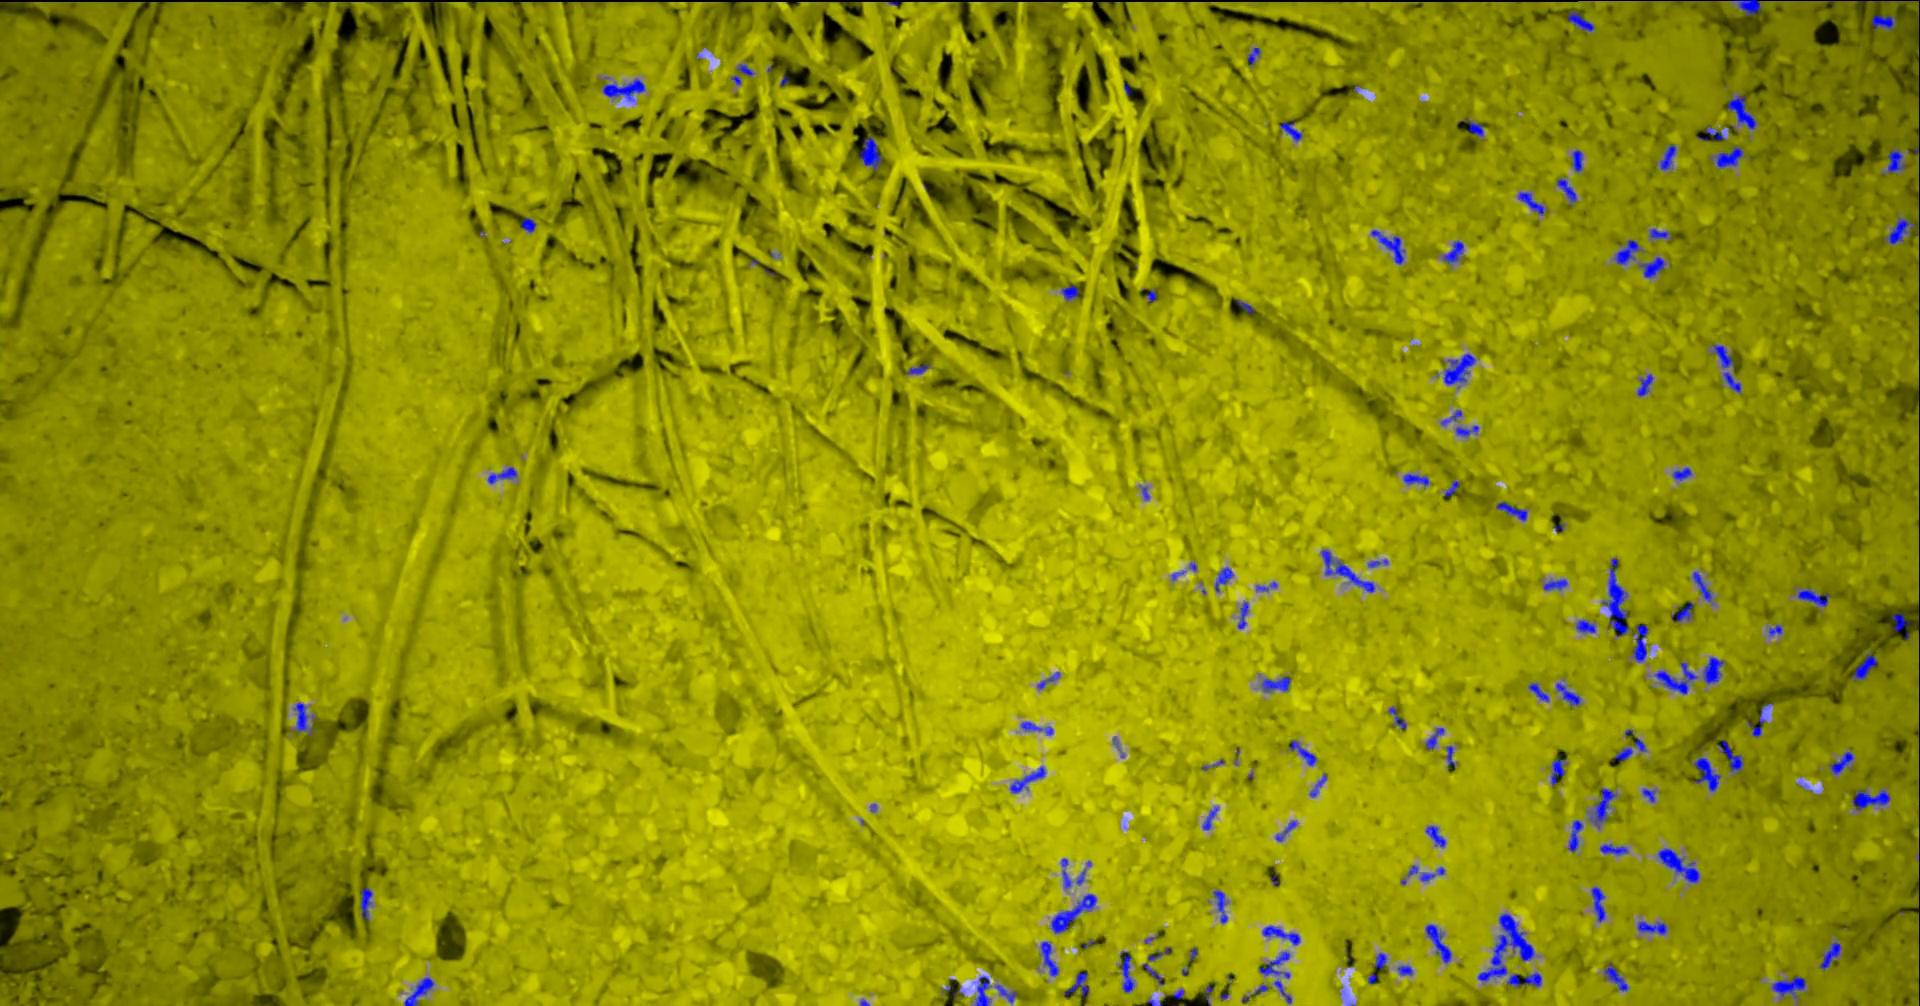ant: (1321, 549, 1374, 592), (1603, 558, 1628, 636), (1050, 893, 1096, 934), (1710, 344, 1740, 392), (1657, 848, 1699, 882), (1655, 662, 1697, 694), (1370, 229, 1404, 264), (1589, 788, 1617, 828), (1425, 923, 1451, 963), (1726, 95, 1756, 130), (602, 77, 645, 102), (1443, 353, 1476, 384), (1884, 216, 1919, 244), (1010, 766, 1045, 793), (1693, 757, 1719, 791), (404, 977, 434, 1005), (1718, 739, 1743, 772), (858, 135, 881, 170), (1258, 951, 1289, 978), (1747, 702, 1771, 735), (1710, 145, 1743, 168), (1060, 857, 1084, 888), (1851, 790, 1890, 809), (1771, 976, 1804, 997), (1288, 739, 1316, 765), (1604, 962, 1628, 991), (1262, 925, 1299, 944), (293, 702, 315, 734), (1614, 239, 1641, 264), (1850, 653, 1876, 680), (1496, 500, 1528, 521), (1797, 587, 1829, 607), (1632, 622, 1648, 661), (1117, 951, 1133, 992), (1063, 970, 1088, 995), (1040, 941, 1058, 976), (1702, 655, 1723, 683), (1818, 941, 1840, 969), (1556, 682, 1580, 706), (1517, 191, 1543, 213), (1829, 751, 1854, 774), (1556, 177, 1576, 205), (1691, 572, 1710, 601), (1567, 10, 1594, 30), (1590, 887, 1605, 922), (1638, 257, 1663, 277), (1260, 674, 1290, 691), (1211, 890, 1227, 923), (1142, 963, 1164, 984), (730, 64, 754, 84), (974, 976, 990, 1005), (1279, 121, 1302, 141), (1443, 240, 1463, 263), (994, 984, 1017, 1005), (1697, 124, 1724, 141), (488, 466, 516, 483), (1886, 149, 1905, 173), (1214, 567, 1233, 591), (1272, 981, 1291, 1005), (1658, 144, 1676, 169), (1020, 721, 1051, 735), (1568, 819, 1582, 851), (1425, 727, 1444, 749), (1459, 118, 1483, 136), (1733, 0, 1761, 15), (359, 887, 372, 920), (1671, 601, 1691, 621), (1275, 821, 1295, 841), (1425, 826, 1445, 846), (1870, 14, 1895, 30), (1528, 682, 1548, 701), (1037, 671, 1059, 688), (1637, 373, 1653, 396), (1388, 706, 1404, 729), (1309, 774, 1326, 796), (1550, 758, 1564, 785), (1637, 921, 1666, 934), (1420, 866, 1444, 882), (1440, 409, 1462, 426), (1402, 473, 1429, 485), (1891, 612, 1909, 631), (1203, 807, 1217, 829), (1599, 843, 1627, 855), (1237, 601, 1248, 627), (1147, 948, 1170, 960), (1575, 619, 1595, 633), (1236, 298, 1255, 312), (1571, 149, 1582, 171), (1671, 467, 1691, 480), (1062, 285, 1079, 298), (1650, 227, 1671, 239), (905, 363, 930, 373), (1543, 579, 1567, 589), (1613, 747, 1632, 760), (1455, 426, 1478, 436), (1444, 480, 1459, 495), (1255, 580, 1277, 591), (1445, 746, 1455, 768), (1247, 47, 1260, 65), (521, 217, 535, 232), (1374, 951, 1385, 968), (1768, 624, 1782, 636), (1642, 788, 1655, 801), (1855, 0, 1919, 3), (1397, 965, 1412, 976)
